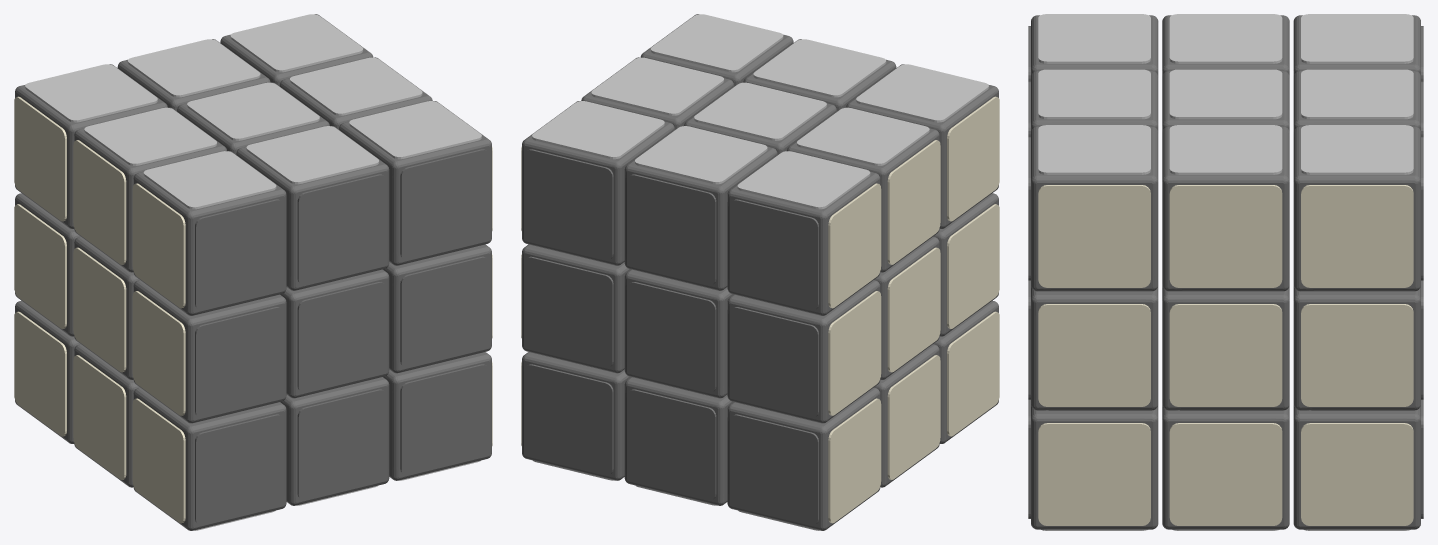
The model's file is magic-cube.glb.
3 views of the same model, side by side, from view 1: azimuth 30°, elevation 25°; view 2: azimuth 150°, elevation 25°; view 3: azimuth 270°, elevation 25° (orthographic). The views are drawn at different scales.
Visible parts, largest first — view 1: gray_tiles_(11), gray_tiles_(17), gray_tiles_(14), gray_tiles_(10), gray_tiles_(16), gray_tiles_(13), gray_tiles_(9), gray_tiles_(15), gray_tiles_(12), black_tiles_(13), black_tiles_(14), black_tiles_(10) (+34 smaller); view 2: gray_tiles_(0), gray_tiles_(6), gray_tiles_(3), gray_tiles_(1), gray_tiles_(7), gray_tiles_(4), gray_tiles_(2), gray_tiles_(8), gray_tiles_(5), black_tiles_(13), black_tiles_(10), black_tiles_(12) (+34 smaller); view 3: black_tiles_(1), black_tiles_(4), black_tiles_(7), black_tiles_(0), black_tiles_(2), black_tiles_(3), black_tiles_(5), black_tiles_(6), black_tiles_(8), white_tiles_(4), white_tiles_(1), white_tiles_(7) (+21 smaller).
Boxes of the visible parts, x1,y1,x2,y2 form: gray_tiles_(11): (400,364,489,475); gray_tiles_(17): (400,149,489,260); gray_tiles_(14): (400,256,489,367); gray_tiles_(10): (297,389,386,500); gray_tiles_(16): (297,174,386,285); gray_tiles_(13): (297,282,386,392); gray_tiles_(9): (195,414,283,525); gray_tiles_(15): (195,199,283,310); gray_tiles_(12): (195,307,283,417); black_tiles_(13): (73,247,126,372); black_tiles_(14): (132,291,185,415); black_tiles_(10): (73,355,126,479); gray_tiles_(0): (524,364,613,475); gray_tiles_(6): (524,149,613,260); gray_tiles_(3): (524,256,613,367); gray_tiles_(1): (627,389,716,500); gray_tiles_(7): (627,174,716,285); gray_tiles_(4): (627,282,716,392); gray_tiles_(2): (730,414,818,525); gray_tiles_(8): (730,199,818,310); gray_tiles_(5): (730,307,818,417); black_tiles_(13): (887,247,940,372); black_tiles_(10): (887,355,940,479); black_tiles_(12): (828,291,881,415); black_tiles_(1): (1169,423,1282,525); black_tiles_(4): (1169,304,1282,406); black_tiles_(7): (1169,185,1282,287); black_tiles_(0): (1038,423,1150,525); black_tiles_(2): (1301,423,1413,525); black_tiles_(3): (1038,304,1150,406); black_tiles_(5): (1301,304,1413,406); black_tiles_(6): (1038,185,1150,287); black_tiles_(8): (1301,185,1413,287); white_tiles_(4): (1169,69,1282,119); white_tiles_(1): (1038,69,1150,119); white_tiles_(7): (1301,69,1413,119).
Size of the model in its own units: 0.09 by 0.09 by 0.09.
